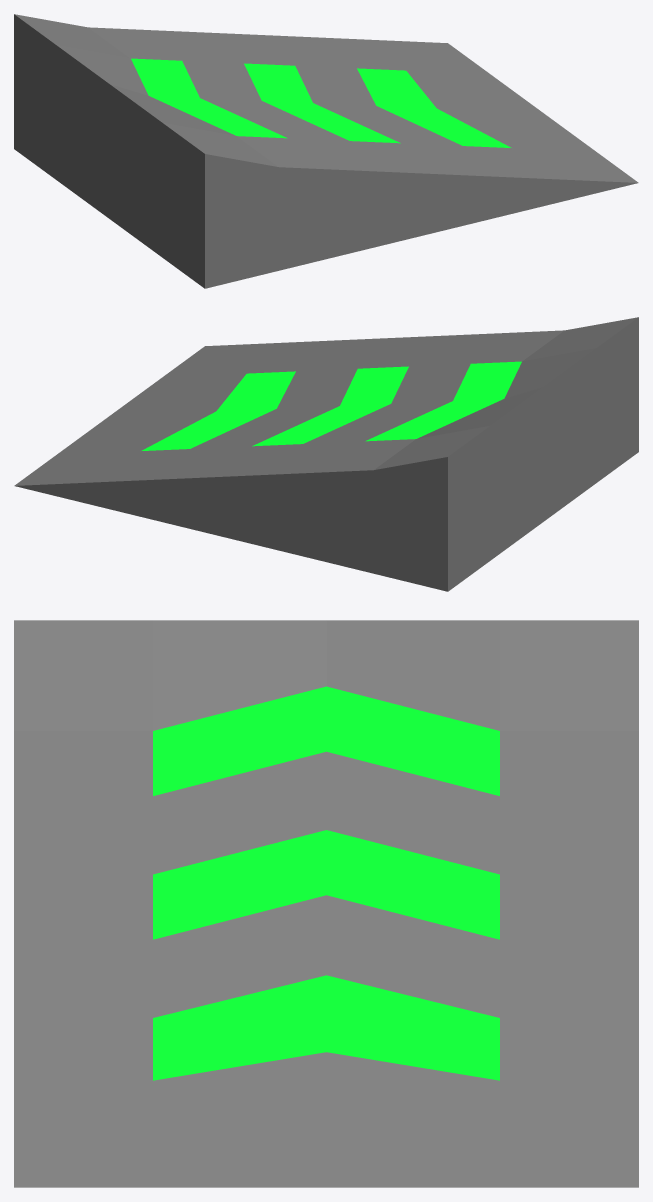
The model's file is ramp1.fbx.
The picture shows the model from 3 angles, top to bottom: view 1: azimuth 30°, elevation 25°; view 2: azimuth 150°, elevation 25°; view 3: azimuth 270°, elevation 25°; orthographic projection. The views are drawn at different scales.
Visible parts, largest first — view 1: Cube; view 2: Cube; view 3: Cube.
Part boxes in pixels (x1=…): Cube: x1=14, y1=14, x2=638, y2=288; Cube: x1=14, y1=317, x2=638, y2=591; Cube: x1=14, y1=620, x2=638, y2=1187.
Size of the model in its own units: 445 by 132 by 339.
